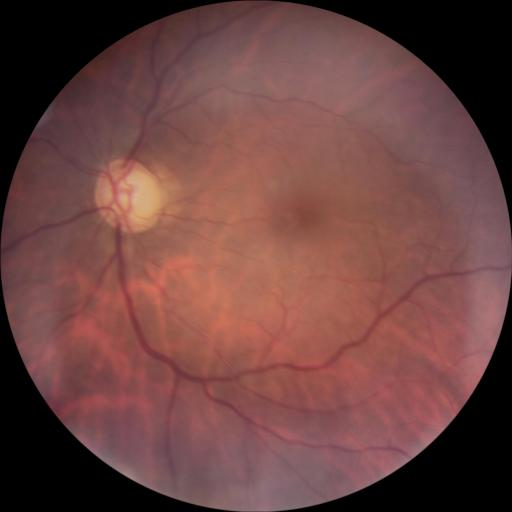Optic Disc: (95, 159, 160, 234)
